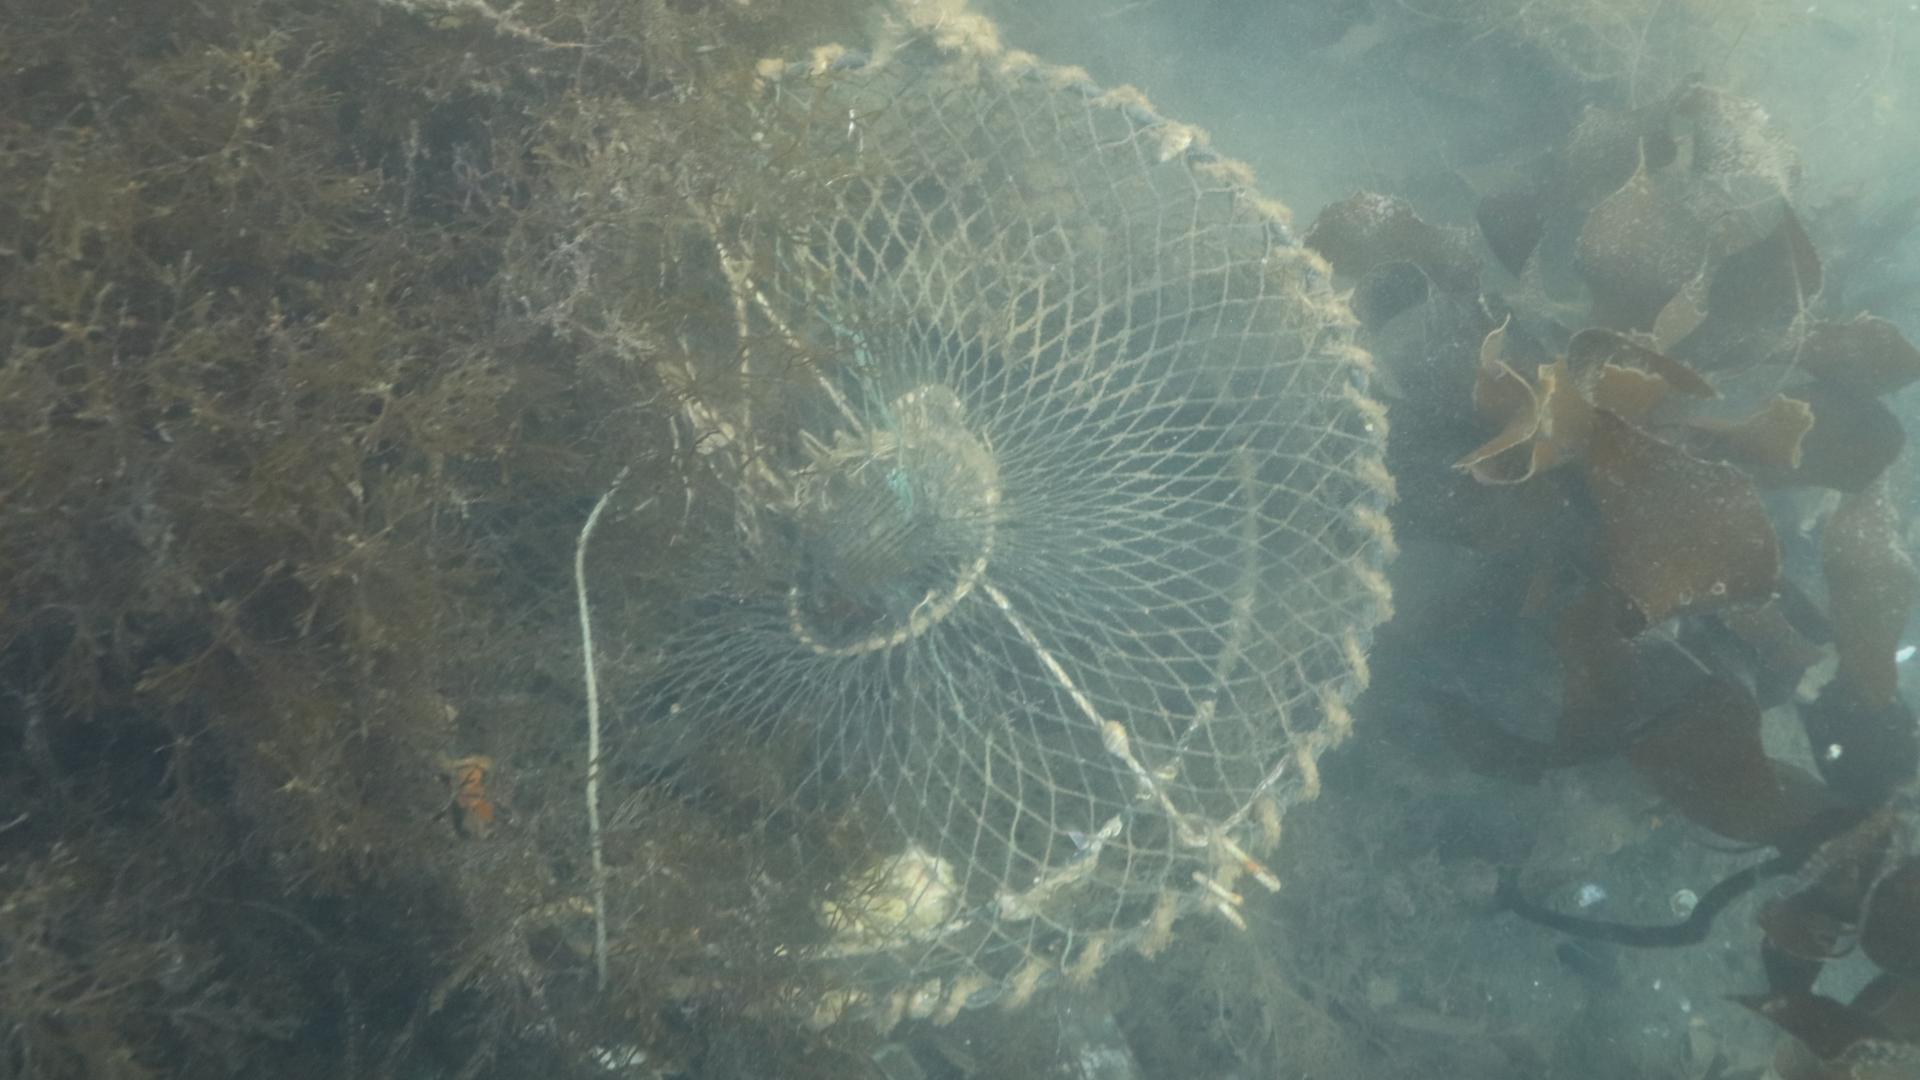circular fish trap: (353, 37, 1395, 1022)
